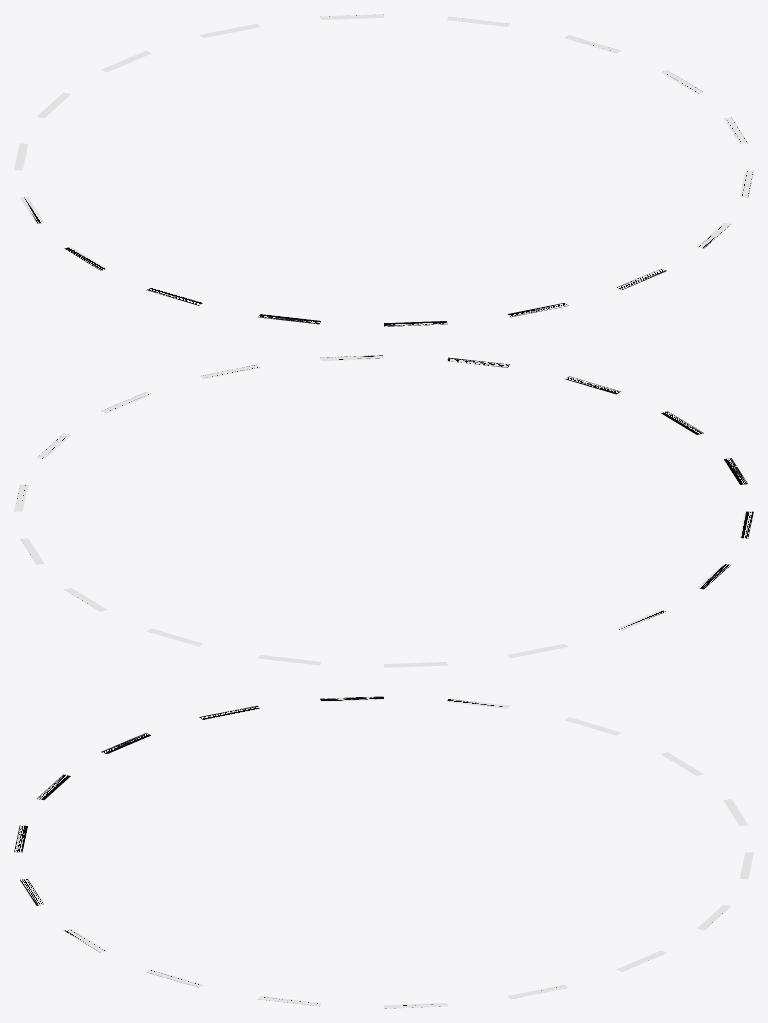
The model's file is spin.glb.
The picture shows the model from 3 angles, top to bottom: view 1: azimuth 30°, elevation 25°; view 2: azimuth 150°, elevation 25°; view 3: azimuth 270°, elevation 25°; orthographic projection.
Parts seen in each view (by area): view 1: Plane; view 2: Plane; view 3: Plane.
Part boxes in pixels (left/top/right/bottom): Plane: left=14, top=14, right=753, bottom=326; Plane: left=14, top=355, right=753, bottom=667; Plane: left=14, top=696, right=753, bottom=1008.
Size of the model in its own units: 10.24 by 4.36e-09 by 10.24.
1 material, 1 textured.
